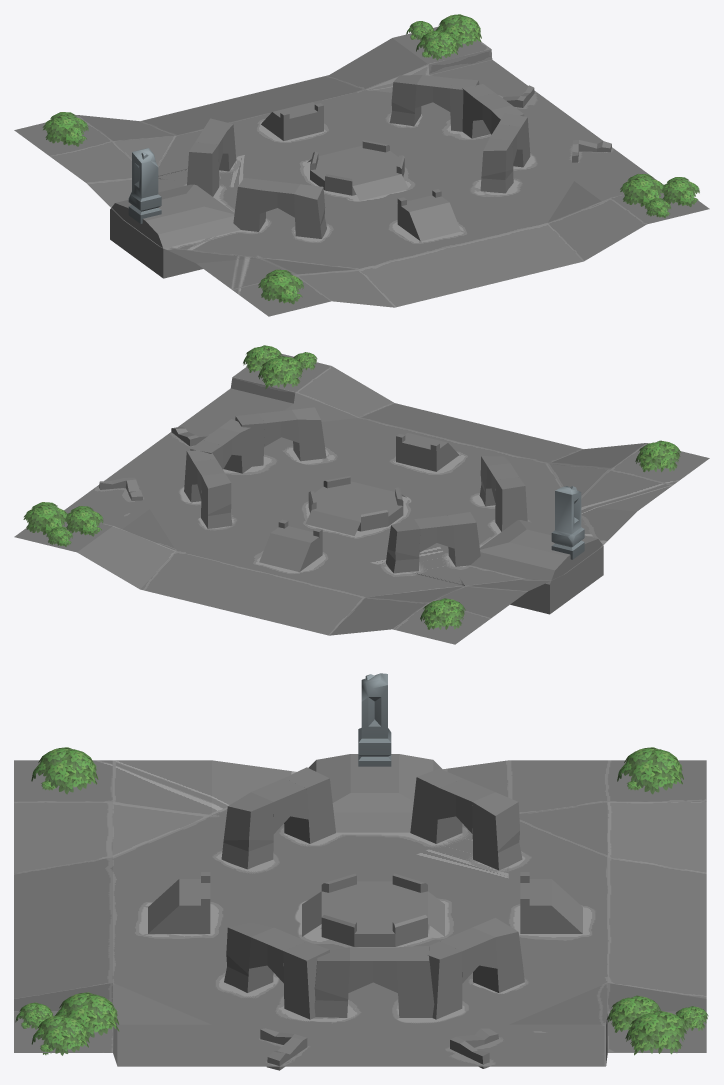
File: TL_map_ruins.glb
The picture shows the model from 3 angles, top to bottom: view 1: azimuth 30°, elevation 25°; view 2: azimuth 150°, elevation 25°; view 3: azimuth 270°, elevation 25°; orthographic projection. The views are drawn at different scales.
Parts seen in each view (by area): view 1: Plane, Cube, Cylinder, Cube.005, Cube.006, Cube.014, Cube.002, fence_pillar_broken, Cube.015, Cube.007, Cube.003, Cube.008 (+11 smaller); view 2: Plane, Cube, Cylinder, Cube.008, Cube.002, Cube.015, Cube.006, fence_pillar_broken, Cube.014, Cube.017, Cube.003, Cube.007 (+10 smaller); view 3: Plane, Cylinder, Cube, Cube.005, Cube.008, Cube.017, Cube.006, Cube.002, Cube.014, Cube.015, fence_pillar_broken, Cube.009 (+13 smaller).
Boxes of the visible parts, x1,y1,x2,y2 form: Plane: (14, 26, 709, 316); Cube: (110, 184, 240, 278); Cylinder: (307, 140, 408, 200); Cube.005: (259, 180, 326, 238); Cube.006: (389, 75, 455, 126); Cube.014: (397, 189, 460, 241); Cube.002: (480, 124, 522, 193); fence_pillar_broken: (128, 148, 161, 223); Cube.015: (261, 102, 323, 140); Cube.007: (187, 142, 219, 196); Cube.003: (233, 178, 266, 231); Cube.008: (195, 118, 236, 171); Plane: (14, 354, 709, 644); Cube: (471, 520, 603, 614); Cylinder: (305, 476, 406, 535); Cube.008: (386, 515, 454, 573); Cube.002: (259, 407, 326, 461); Cube.015: (259, 519, 322, 571); Cube.006: (191, 459, 232, 528); fence_pillar_broken: (551, 486, 584, 559); Cube.014: (396, 433, 458, 471); Cube.017: (202, 419, 251, 473); Cube.003: (495, 477, 527, 531); Cube.007: (447, 512, 480, 566); Plane: (14, 760, 706, 1066); Cylinder: (302, 873, 444, 946); Cube: (308, 754, 442, 832); Cube.005: (221, 778, 308, 869); Cube.008: (437, 778, 522, 870); Cube.017: (314, 947, 397, 1017); Cube.006: (440, 918, 524, 992); Cube.002: (224, 922, 306, 992); Cube.014: (148, 872, 210, 933); Cube.015: (520, 872, 582, 933); fence_pillar_broken: (358, 673, 391, 766); Cube.009: (396, 946, 434, 1017).
Bounding box in the file's own units: 10.72 × 2.41 × 10.58.
Materials: 4 (3 with a texture image).
